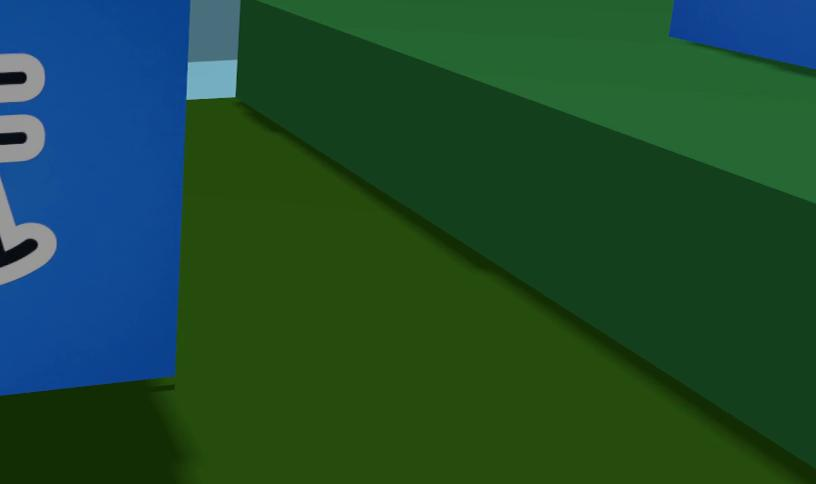KFS_REAL: (0, 0, 188, 393), (672, 0, 815, 68), (0, 178, 54, 284), (0, 54, 43, 167)
